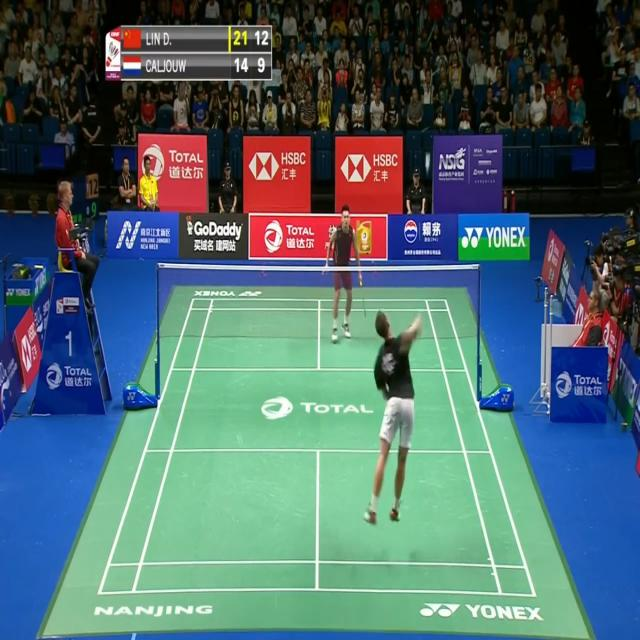Player1: (358, 305, 429, 535)
Player2: (321, 202, 369, 346)
